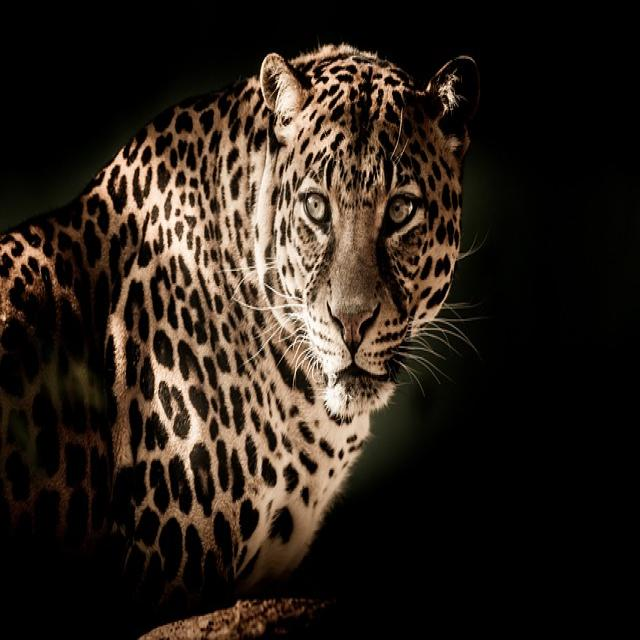Carnivorous: (0, 44, 483, 640)
